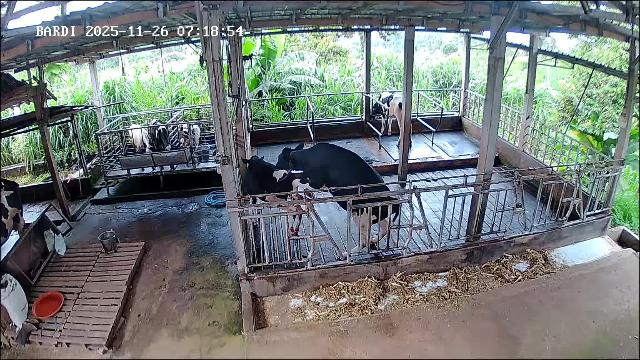mounting: (275, 142, 400, 255)
